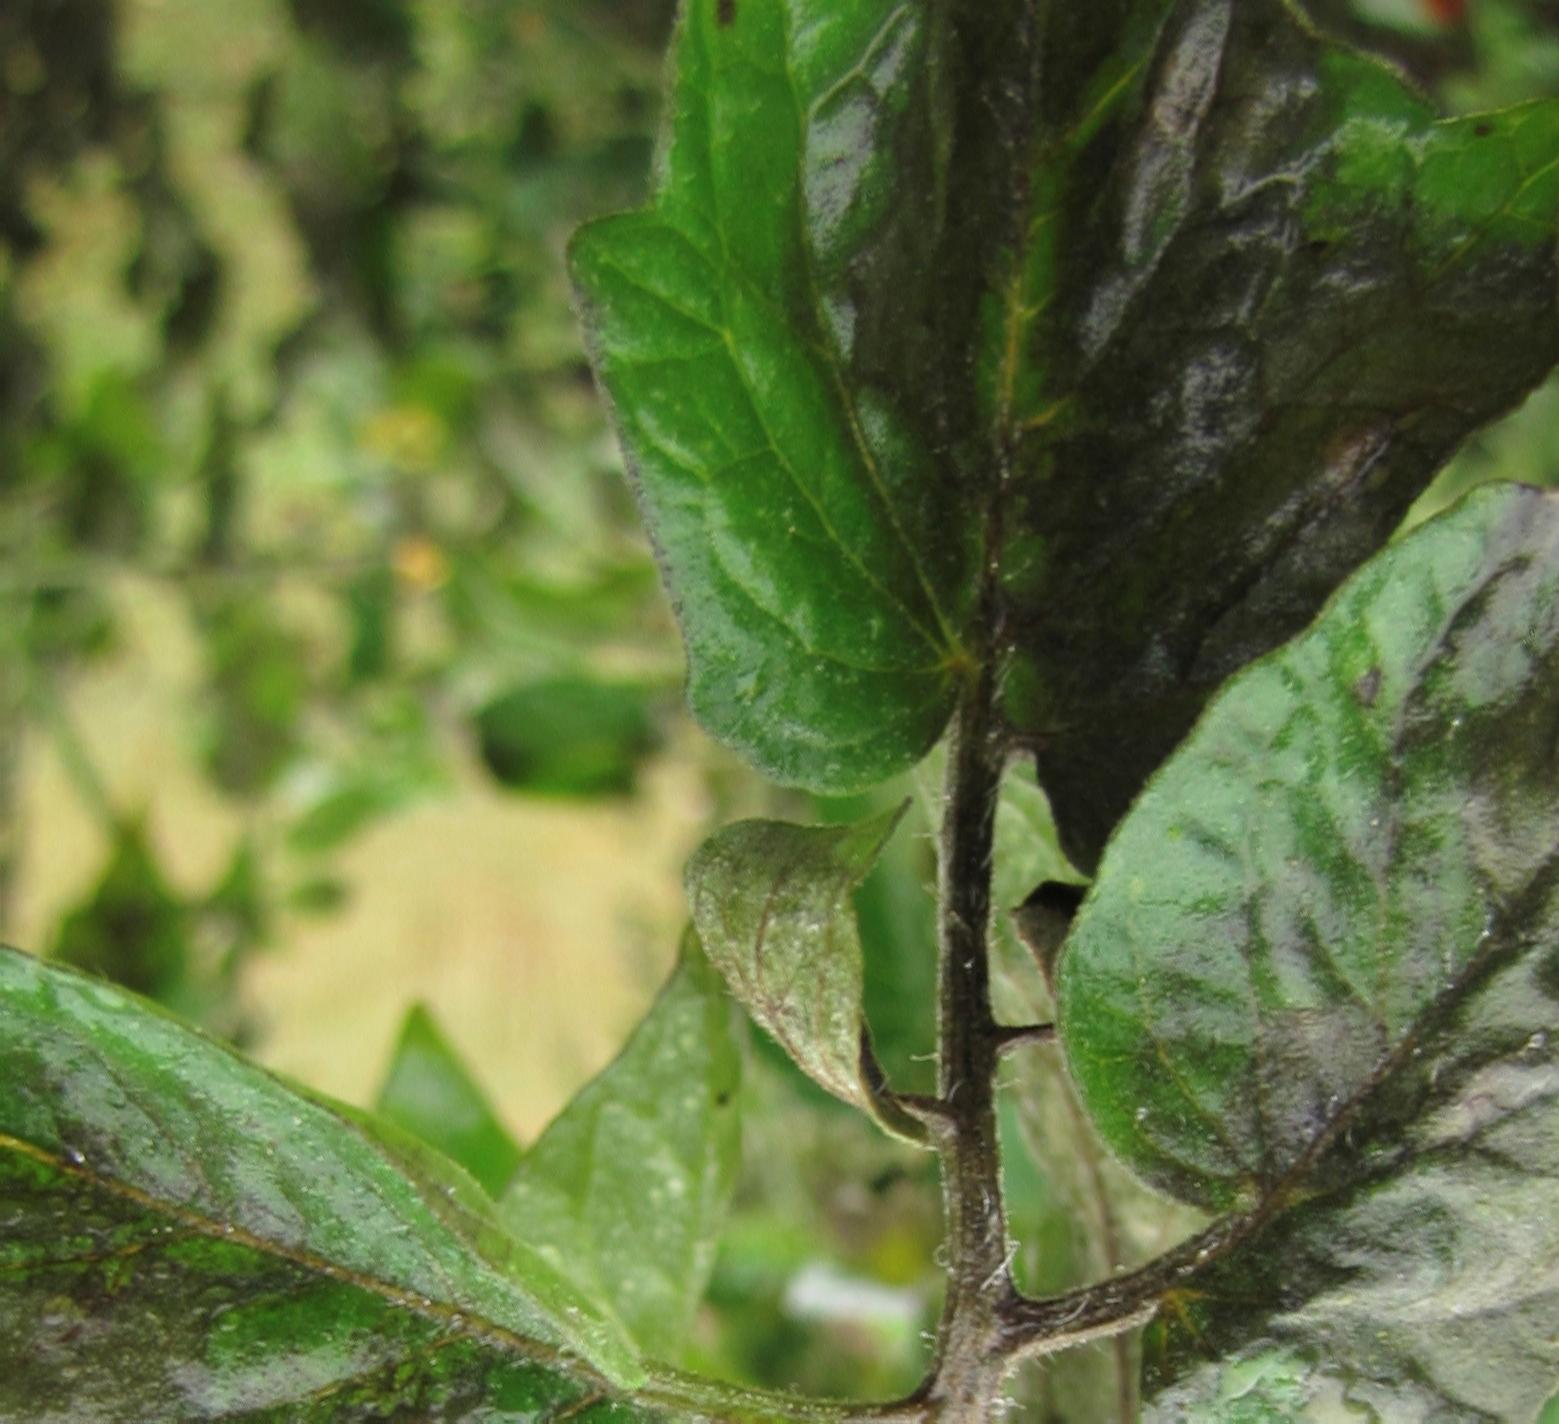Tomato leaf late blight: (517, 0, 1524, 846), (1020, 91, 1559, 1424), (0, 749, 771, 1424)
